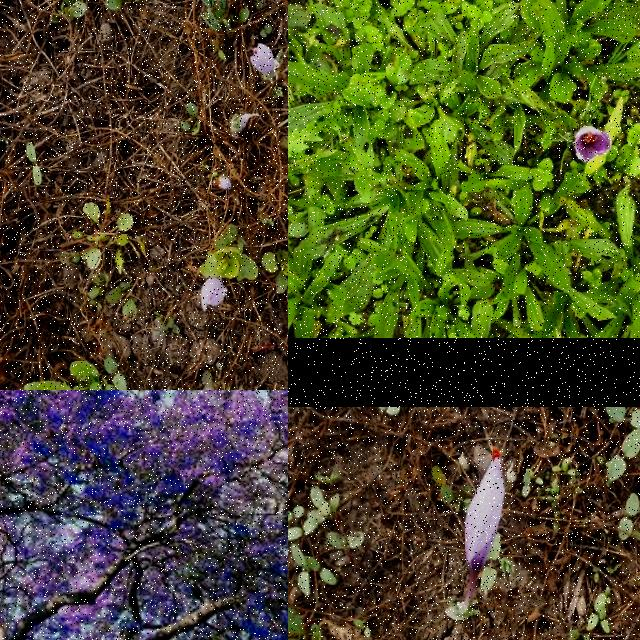flower: (464, 446, 506, 574), (574, 126, 612, 162), (200, 278, 228, 312), (250, 44, 276, 74)
